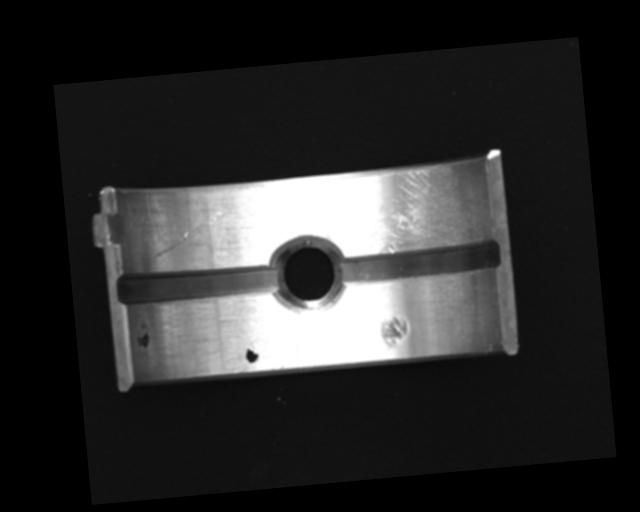blot: (134, 319, 151, 350), (244, 343, 259, 364)
bruise: (379, 314, 410, 352)
gap: (331, 237, 502, 287), (114, 260, 281, 311)
hole: (265, 230, 347, 317)
nick: (148, 209, 228, 259)
scratch: (332, 160, 484, 258)
